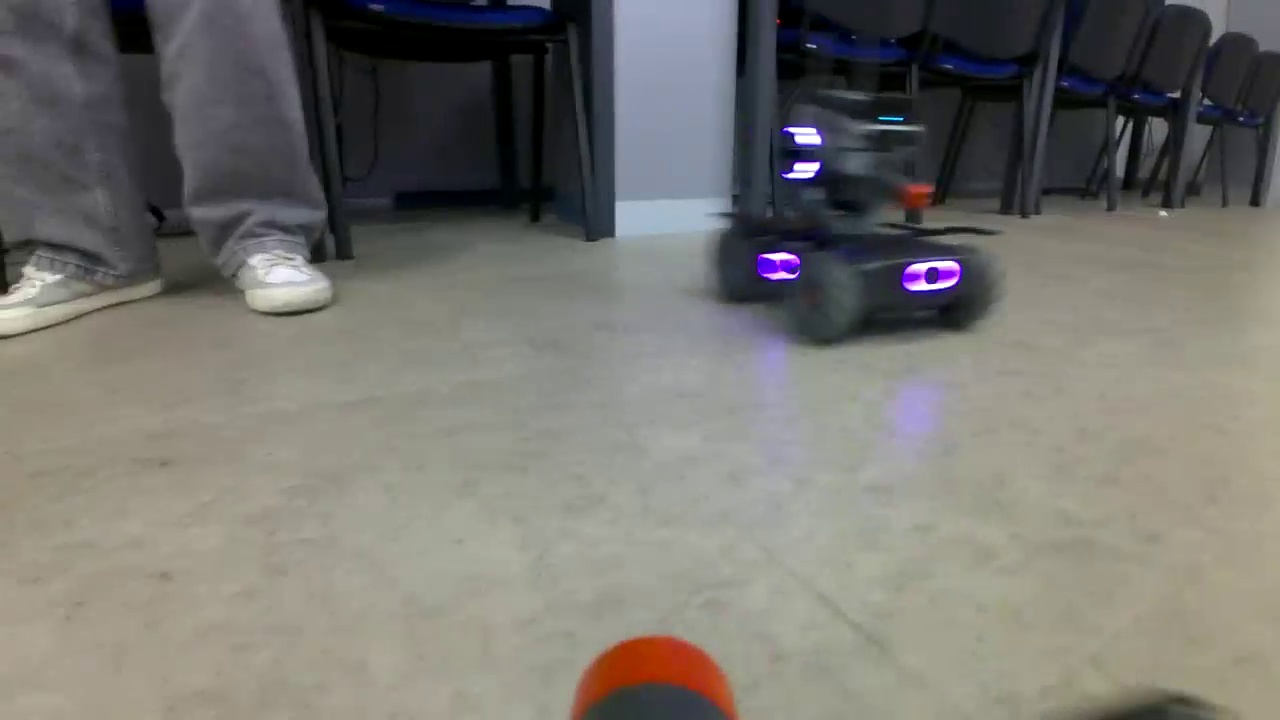robot: (700, 115, 1000, 345)
